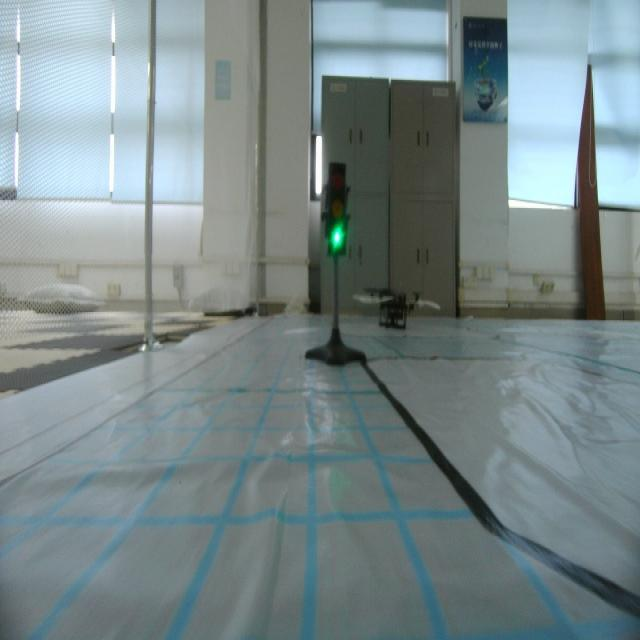green: (324, 163, 352, 257)
